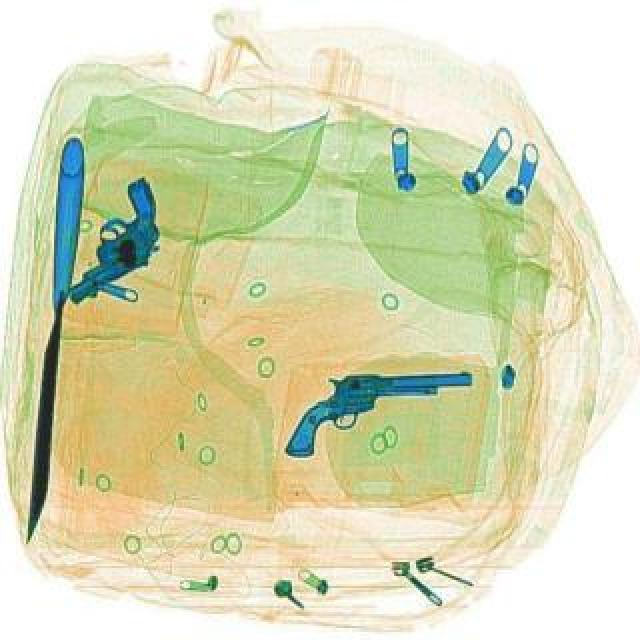gun: (32, 176, 186, 302), (280, 368, 472, 454)
knife: (14, 136, 88, 542)
